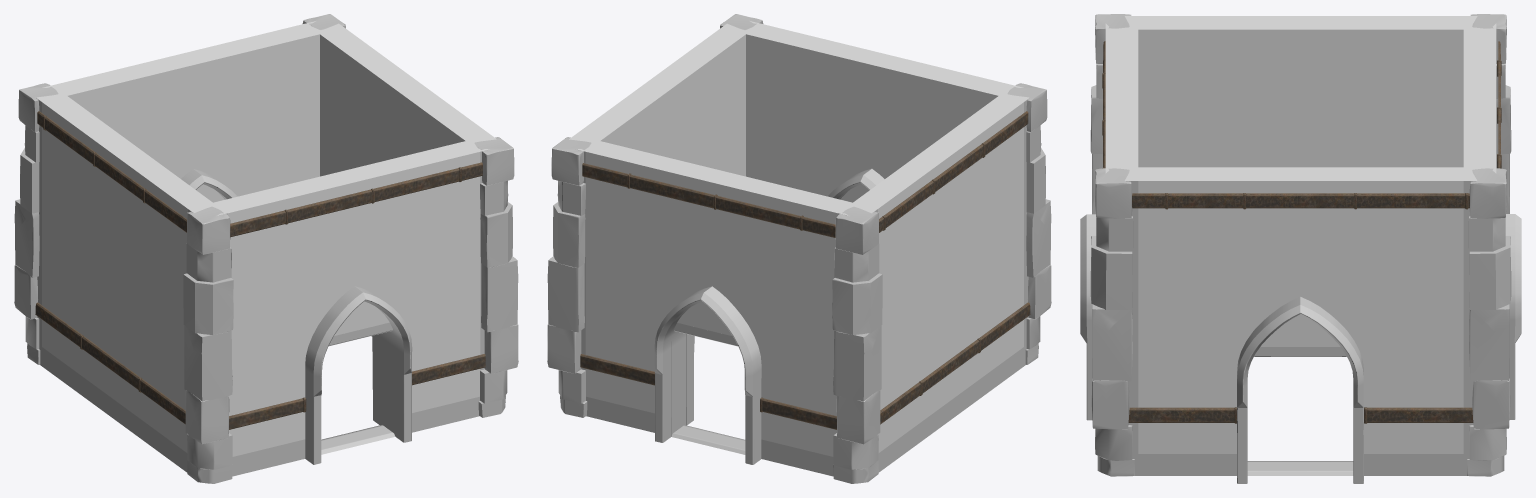
3 views of the same model, side by side, from view 1: azimuth 30°, elevation 25°; view 2: azimuth 150°, elevation 25°; view 3: azimuth 270°, elevation 25° (orthographic). The views are drawn at different scales.
Parts seen in each view (by area): view 1: SM_Dowdun_Tower_Room_12x12_03_LOD0; view 2: SM_Dowdun_Tower_Room_12x12_03_LOD0; view 3: SM_Dowdun_Tower_Room_12x12_03_LOD0.
Boxes of the visible parts, left/top/right/bottom form: SM_Dowdun_Tower_Room_12x12_03_LOD0: left=14, top=14, right=518, bottom=483; SM_Dowdun_Tower_Room_12x12_03_LOD0: left=547, top=14, right=1051, bottom=483; SM_Dowdun_Tower_Room_12x12_03_LOD0: left=1080, top=14, right=1521, bottom=483.
Bounding box in the file's own units: 13.08 × 10.01 × 13.57.
